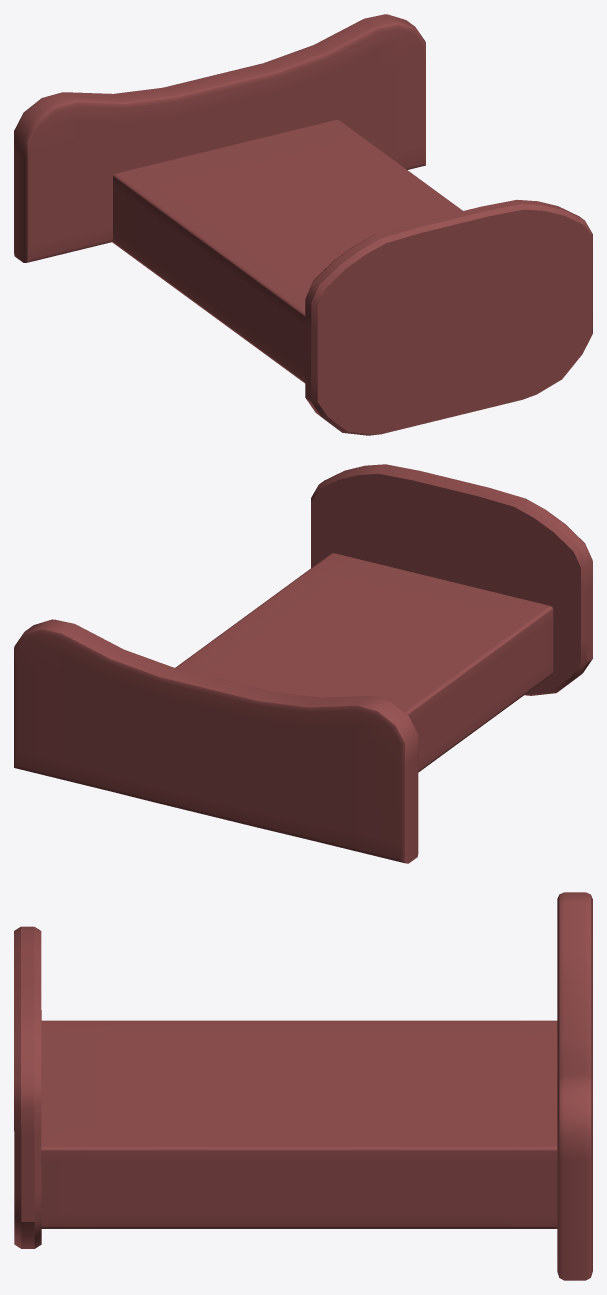
The model's file is bed.fbx.
The picture shows the model from 3 angles, top to bottom: view 1: azimuth 30°, elevation 25°; view 2: azimuth 150°, elevation 25°; view 3: azimuth 270°, elevation 25°; orthographic projection. The views are drawn at different scales.
Parts seen in each view (by area): view 1: pCube10, Matrass_uv_mapping, thing_for_head_of_bed; view 2: thing_for_head_of_bed, Matrass_uv_mapping, pCube10; view 3: Matrass_uv_mapping, thing_for_head_of_bed, pCube10.
Part boxes in pixels (x1,y1,x2,y2): pCube10: [305, 199, 592, 435]; Matrass_uv_mapping: [112, 120, 462, 383]; thing_for_head_of_bed: [14, 14, 425, 262]; thing_for_head_of_bed: [14, 619, 418, 863]; Matrass_uv_mapping: [175, 553, 553, 772]; pCube10: [311, 464, 592, 695]; Matrass_uv_mapping: [41, 1020, 557, 1228]; thing_for_head_of_bed: [557, 892, 592, 1280]; pCube10: [14, 926, 41, 1248].
Size of the model in its own units: 204 by 95.87 by 218.
